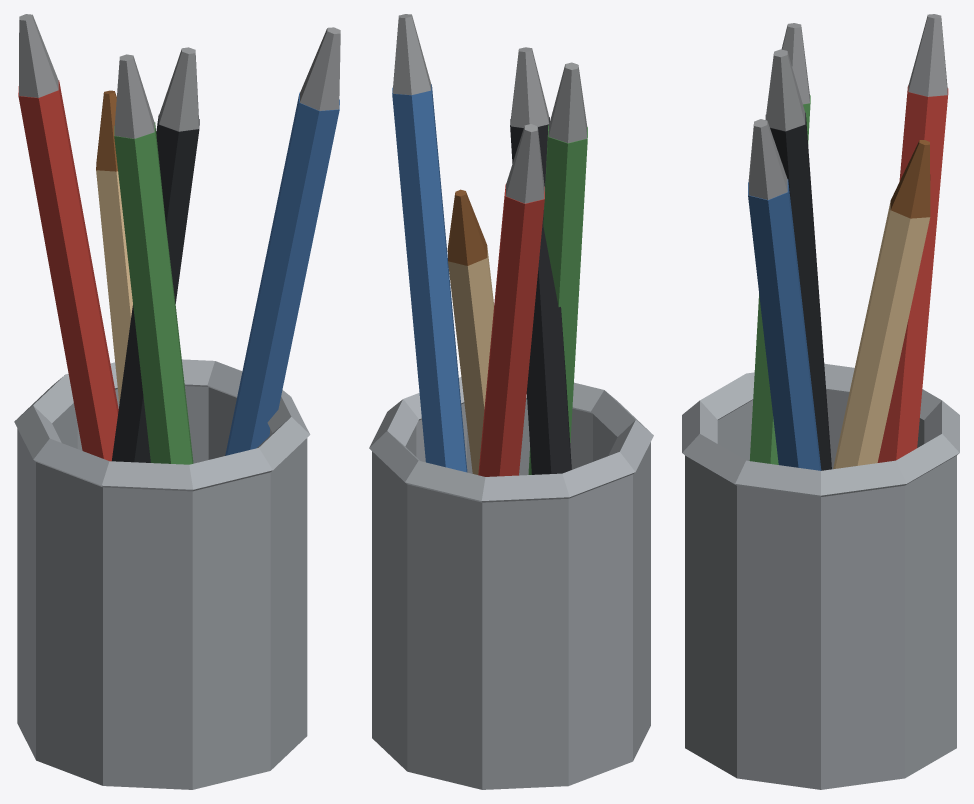
Rendered from SM_LPI_Office_PenPot_01.fbx.
3 renders of one model, left to right at view 1: azimuth 30°, elevation 25°; view 2: azimuth 150°, elevation 25°; view 3: azimuth 270°, elevation 25°, orthographic. The views are drawn at different scales.
Visible parts, largest first — view 1: SM_LPI_Office_PenPot_01; view 2: SM_LPI_Office_PenPot_01; view 3: SM_LPI_Office_PenPot_01.
Part boxes in pixels (x1,y1,x2,y2): SM_LPI_Office_PenPot_01: (14,14,340,789); SM_LPI_Office_PenPot_01: (369,14,653,789); SM_LPI_Office_PenPot_01: (682,14,959,789).
Bounding box in the file's own units: 0.1019 × 0.2419 × 0.0894.
